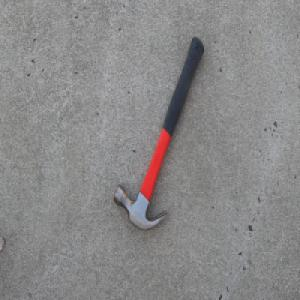Hammer: (112, 35, 204, 232)
